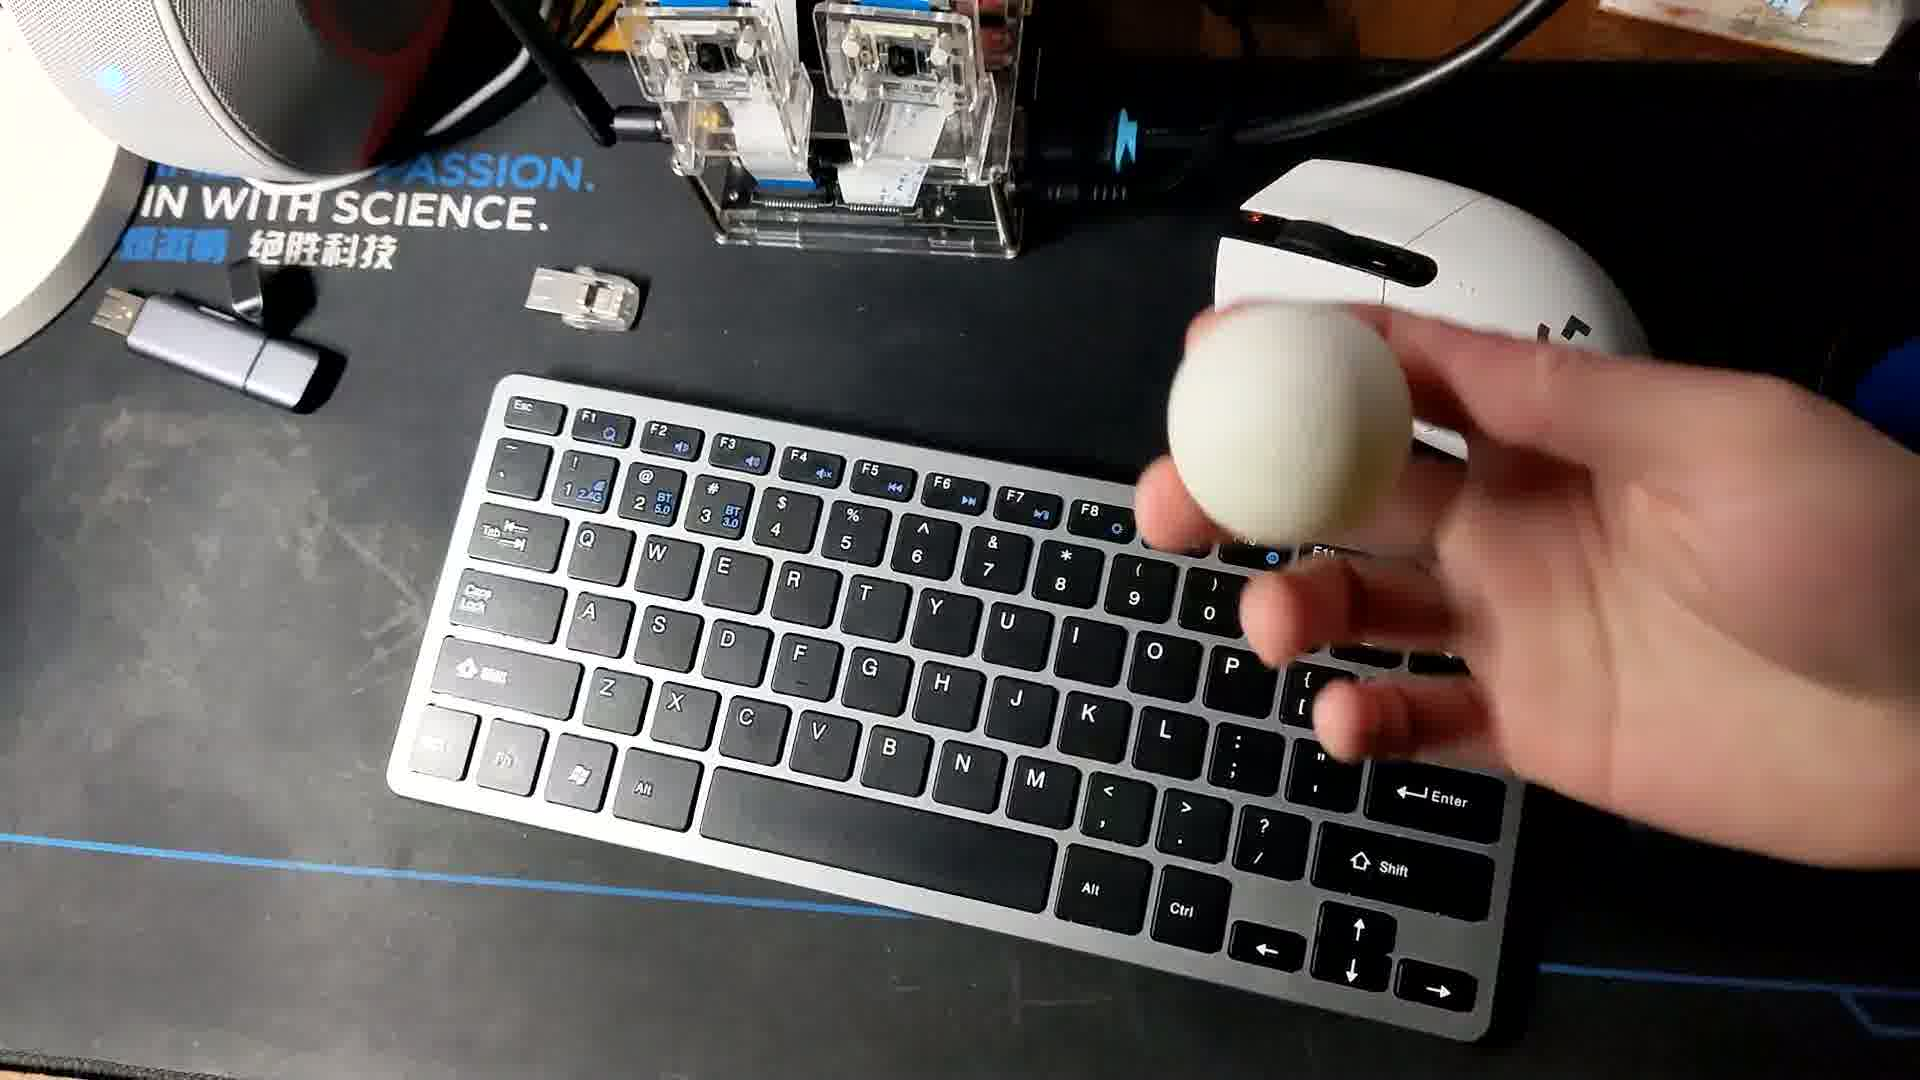Ball: (1174, 302, 1408, 556)
